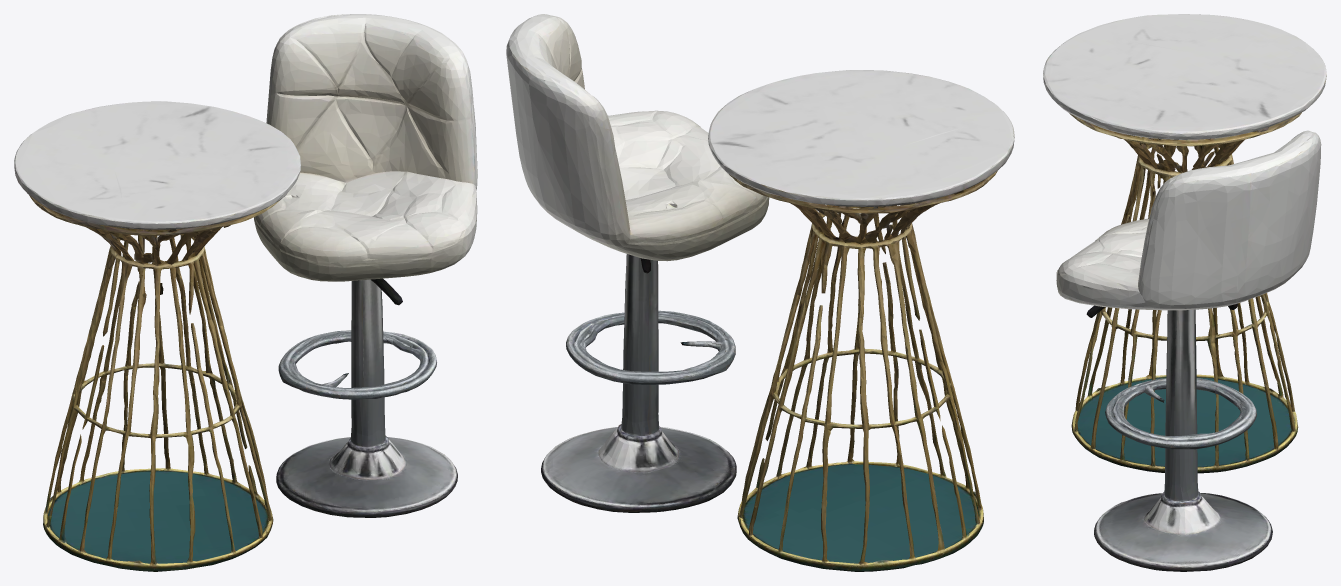
File: The_chair_and_the_table_compressed.glb
The picture shows the model from 3 angles, left to right: view 1: azimuth 30°, elevation 25°; view 2: azimuth 150°, elevation 25°; view 3: azimuth 270°, elevation 25°; orthographic projection. The views are drawn at different scales.
Visible parts, largest first — view 1: geometry_0; view 2: geometry_0; view 3: geometry_0.
Boxes of the visible parts, x1,y1,x2,y2 form: geometry_0: (14, 14, 477, 571); geometry_0: (506, 14, 1014, 571); geometry_0: (1043, 14, 1326, 571).
Size of the model in its own units: 0.6999 by 0.6467 by 0.4063.
1 material, 1 textured.
